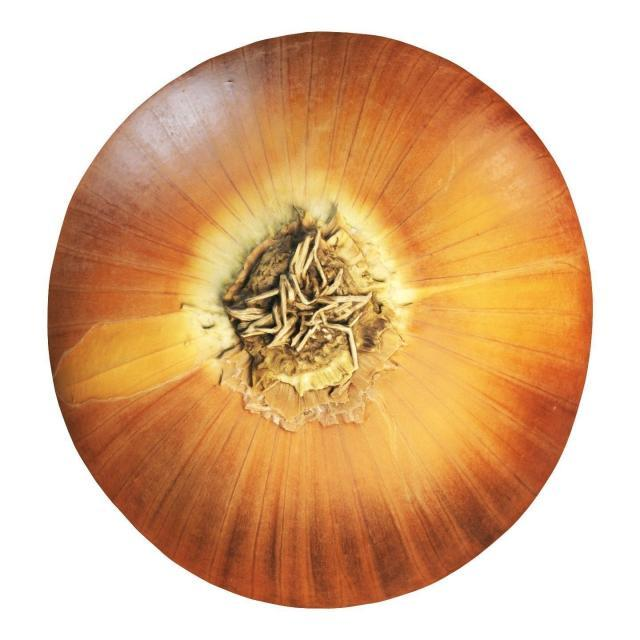onion: (46, 31, 595, 611)
